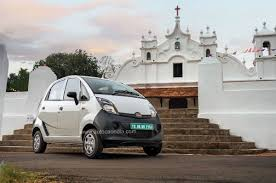Nano: (30, 74, 163, 163)
